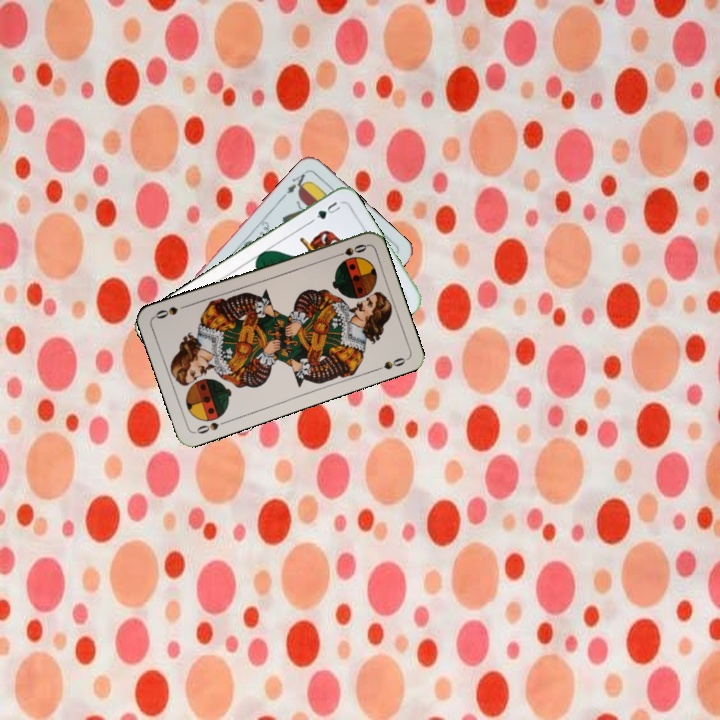EA: (279, 166, 311, 200)
GU: (307, 197, 343, 225)
SO: (329, 240, 369, 260), (191, 416, 230, 436)
